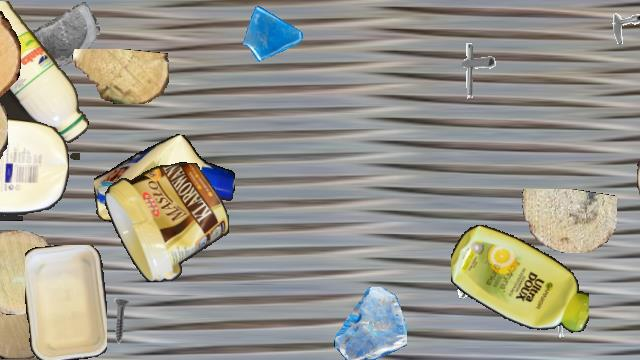glass: (334, 287, 406, 359), (28, 1, 100, 73), (241, 1, 305, 65)
metal: (444, 40, 504, 100), (38, 247, 98, 307), (96, 297, 144, 345), (451, 255, 497, 301), (543, 301, 587, 345), (601, 2, 640, 44)
plastic: (451, 221, 589, 337), (104, 162, 228, 282), (0, 1, 90, 159), (94, 133, 234, 229), (25, 245, 107, 359), (0, 118, 68, 222)
wood: (0, 247, 61, 359), (519, 189, 617, 253), (71, 49, 169, 103), (0, 230, 59, 314), (0, 1, 20, 113), (0, 84, 8, 164), (637, 141, 640, 217)
